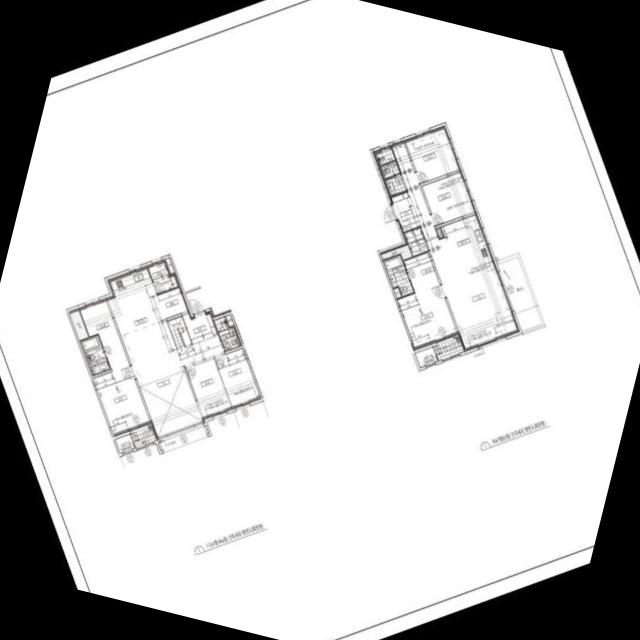background: (0, 0, 640, 640)
space_balconi: (433, 337, 464, 360), (131, 426, 156, 447)
space_bedroom: (93, 365, 150, 436), (397, 284, 458, 350), (405, 125, 460, 183), (422, 171, 476, 225), (186, 358, 232, 419), (215, 348, 260, 408)
space_dressroom: (79, 298, 129, 371), (404, 252, 440, 293)
space_front: (390, 191, 421, 232), (182, 311, 218, 344)
space_kitchen: (107, 266, 165, 334), (439, 214, 496, 283)
space_living_room: (391, 141, 519, 351), (121, 318, 224, 439)
space_multipurpose_space: (147, 259, 177, 293)
space_other: (157, 287, 188, 318), (405, 227, 428, 255), (69, 308, 88, 340), (380, 243, 412, 259), (164, 257, 175, 275), (225, 314, 234, 326), (393, 287, 401, 298), (436, 227, 443, 238)
space_outdoor_room: (415, 347, 437, 367), (115, 434, 134, 453)
space_staircase: (167, 316, 192, 349)
space_toilet: (376, 149, 406, 195), (383, 255, 413, 296), (81, 335, 110, 375), (214, 316, 240, 350)
